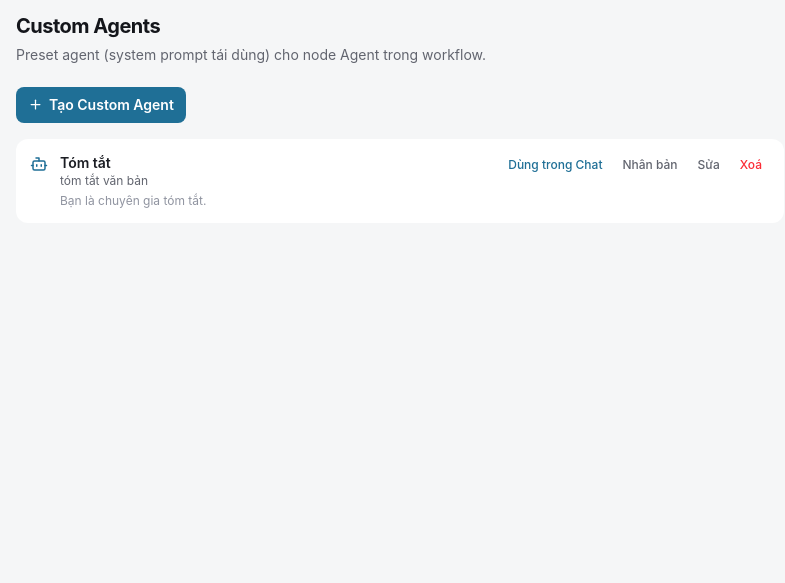
Test: sửa: đổi name → PATCH body đúng
The image size is (785, 583).
Step 1. Click the button "Sửa" → (709,165), box [690, 153, 728, 177]
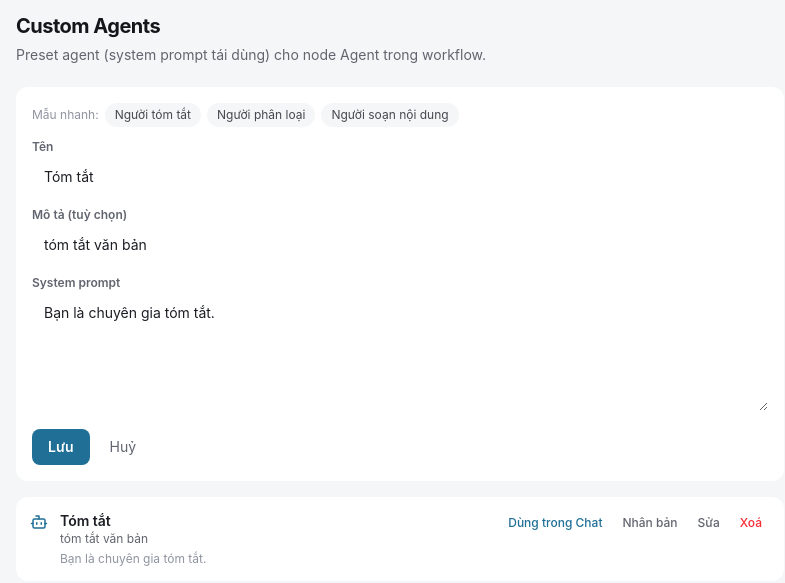
Step 2. Replace the text in the field labelled "Tên" with "Tóm tắt v2" → (400,177), box [32, 159, 768, 195]
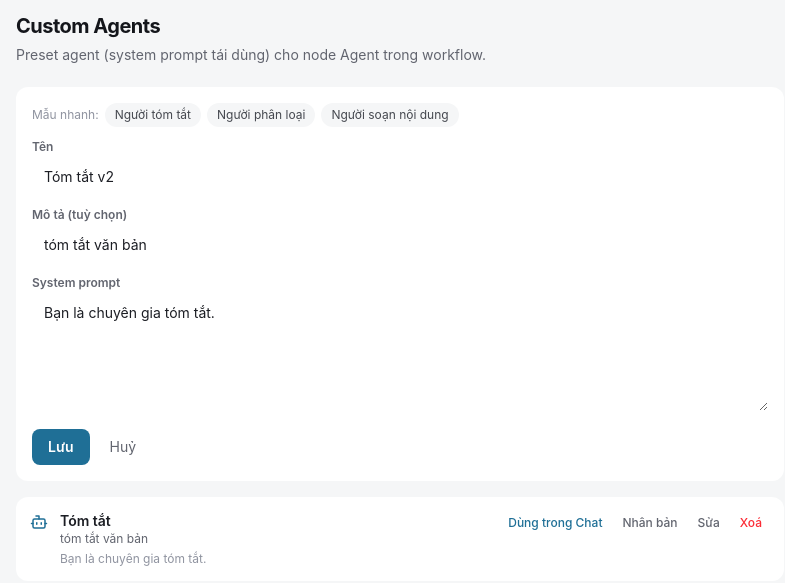
Step 3. Click the button "Lưu" → (61,447), box [32, 429, 90, 465]
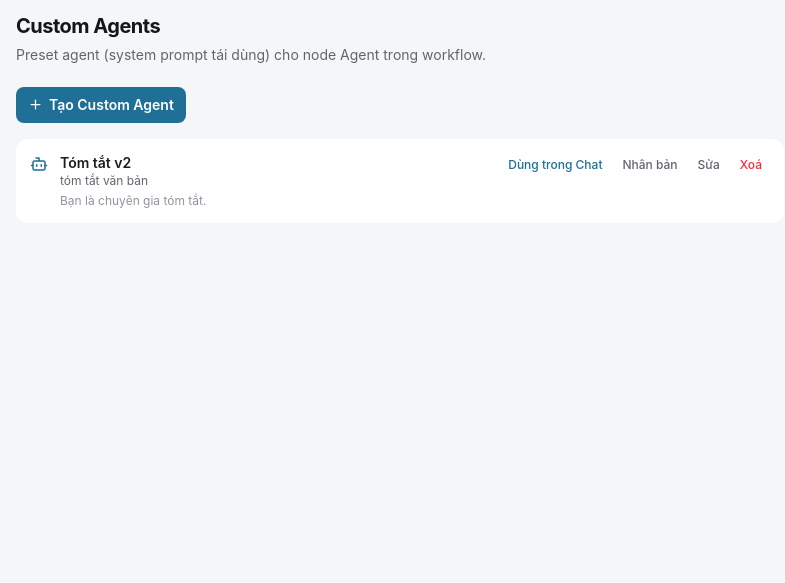
Check: the text "Tóm tắt v2" is shown, box [60, 154, 131, 171]
